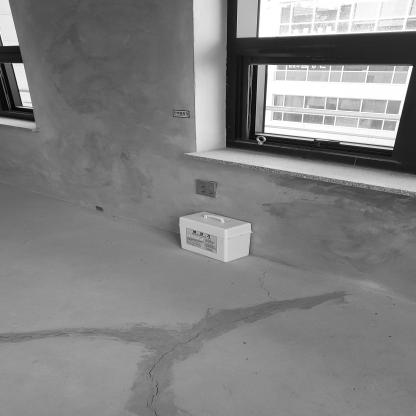DDL: (180, 211, 252, 263)
